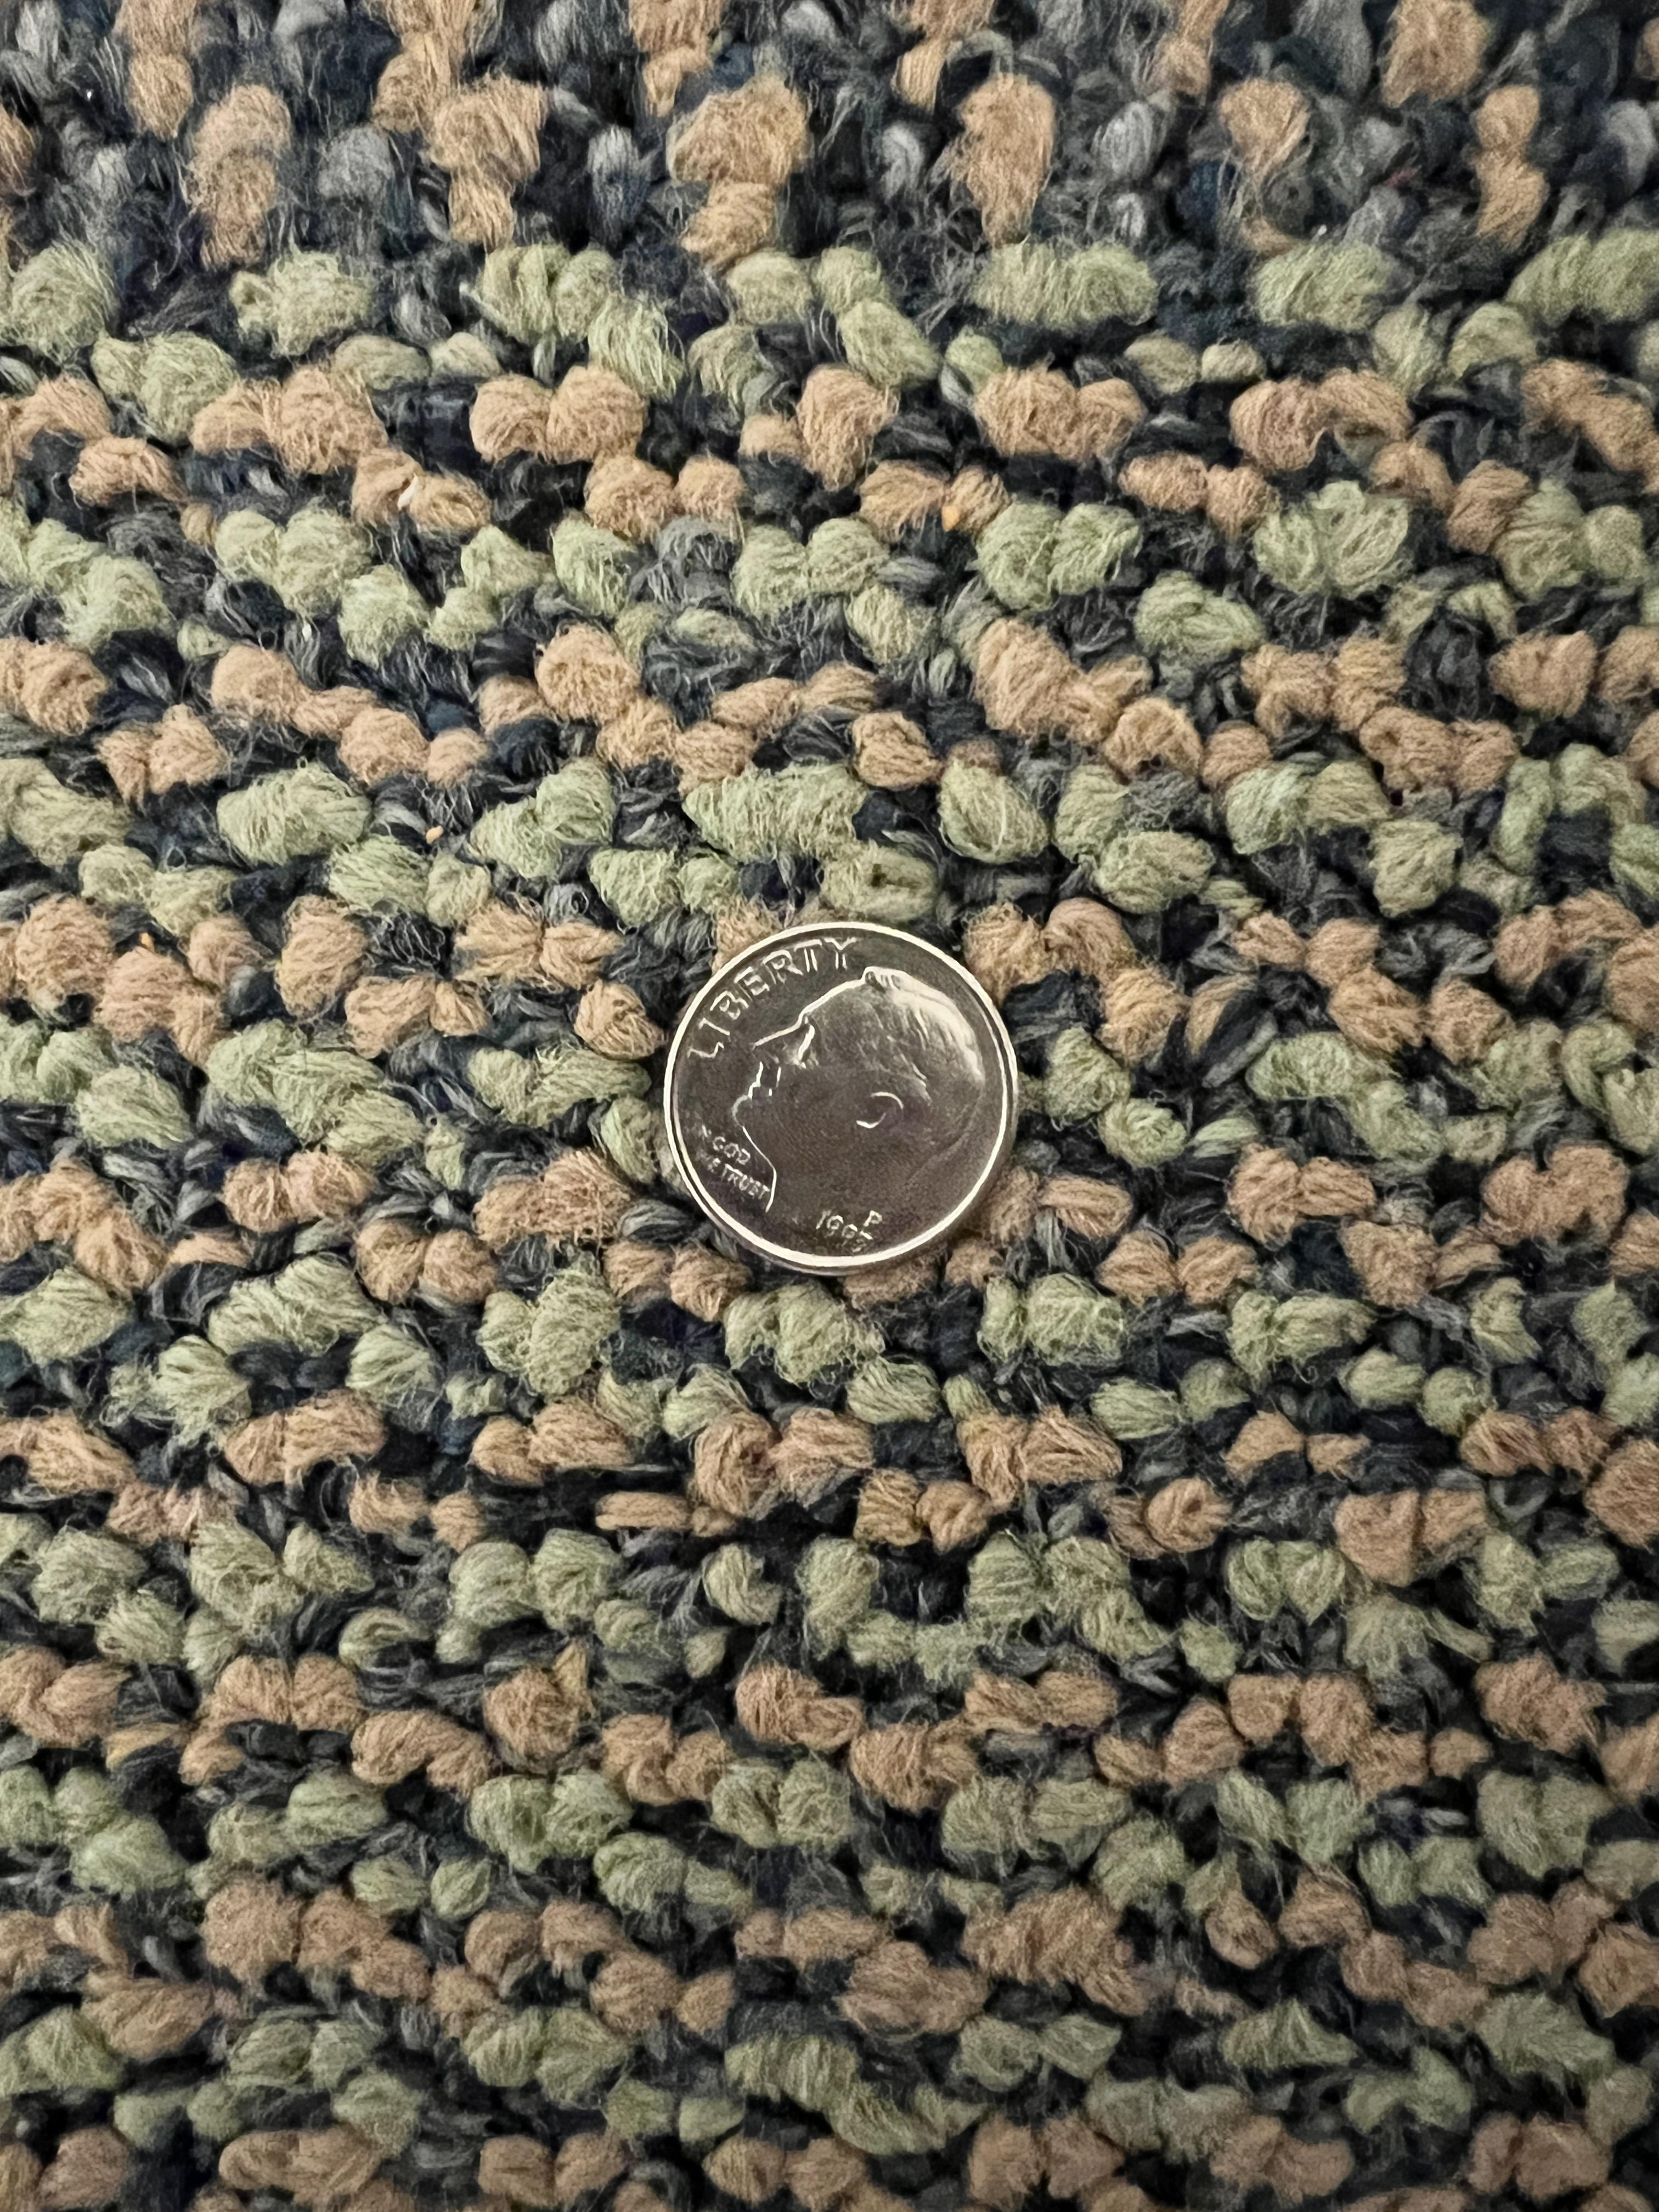Dime: (659, 907, 1018, 1277)
